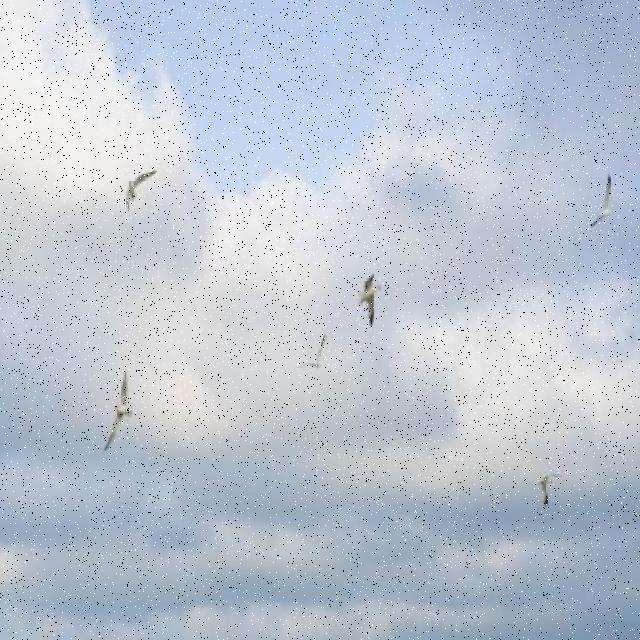bird: (103, 369, 134, 454), (358, 273, 384, 327), (125, 170, 158, 212), (296, 333, 326, 369), (592, 174, 610, 228), (538, 474, 560, 506)
